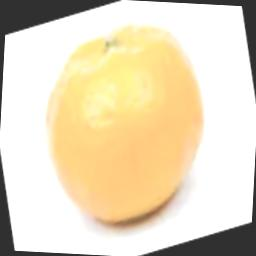Orange Ripe: (30, 0, 218, 239)
